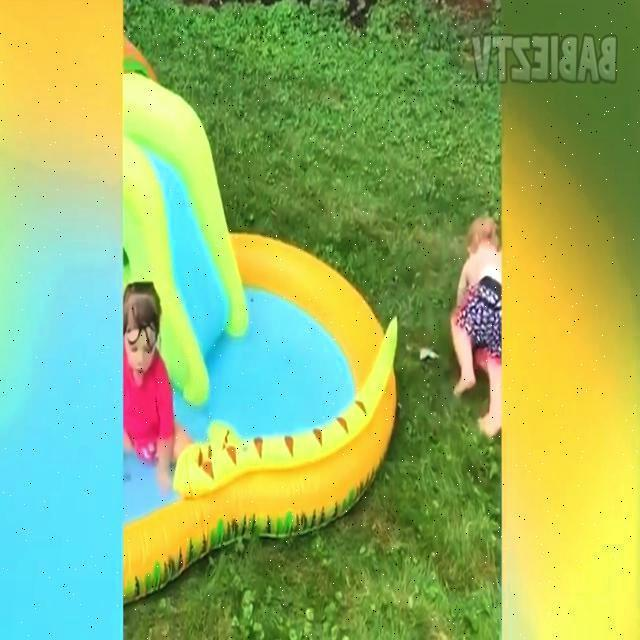child: (125, 279, 195, 491), (449, 211, 501, 444)
